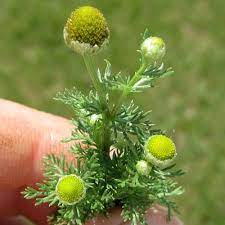pineple: (95, 97, 168, 139)
